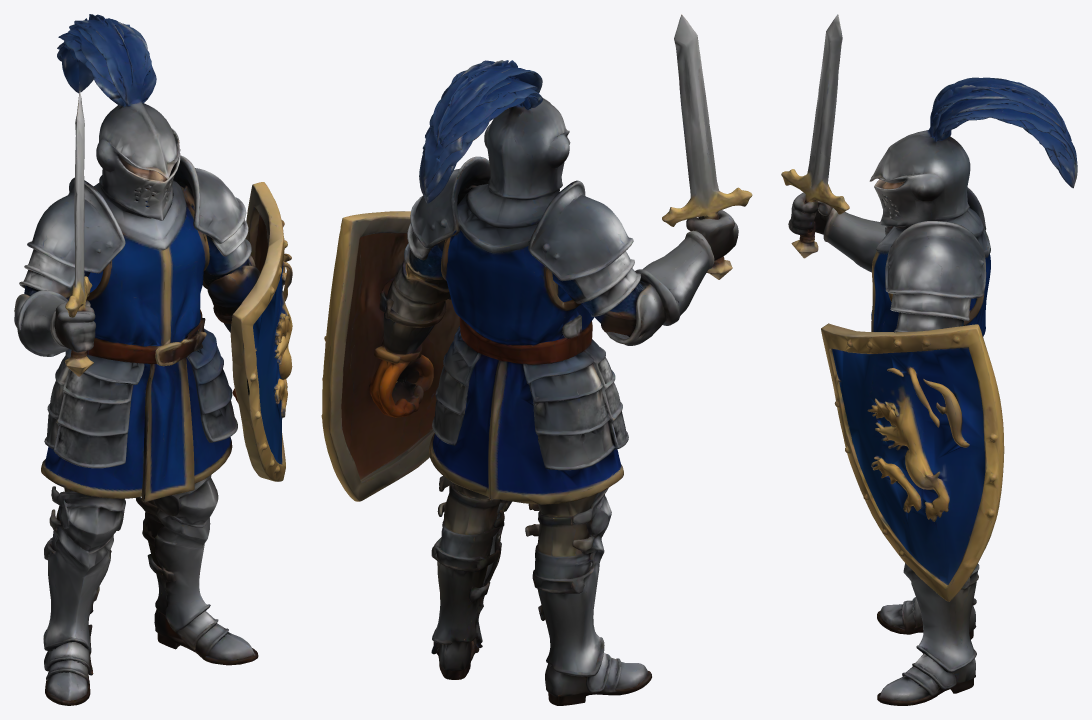
The model's file is detail_9.glb.
3 renders of one model, left to right at view 1: azimuth 30°, elevation 25°; view 2: azimuth 150°, elevation 25°; view 3: azimuth 270°, elevation 25°, orthographic. The views are drawn at different scales.
Size of the model in its own units: 0.5124 by 1 by 0.4479.
Materials: 1 (1 with a texture image).
